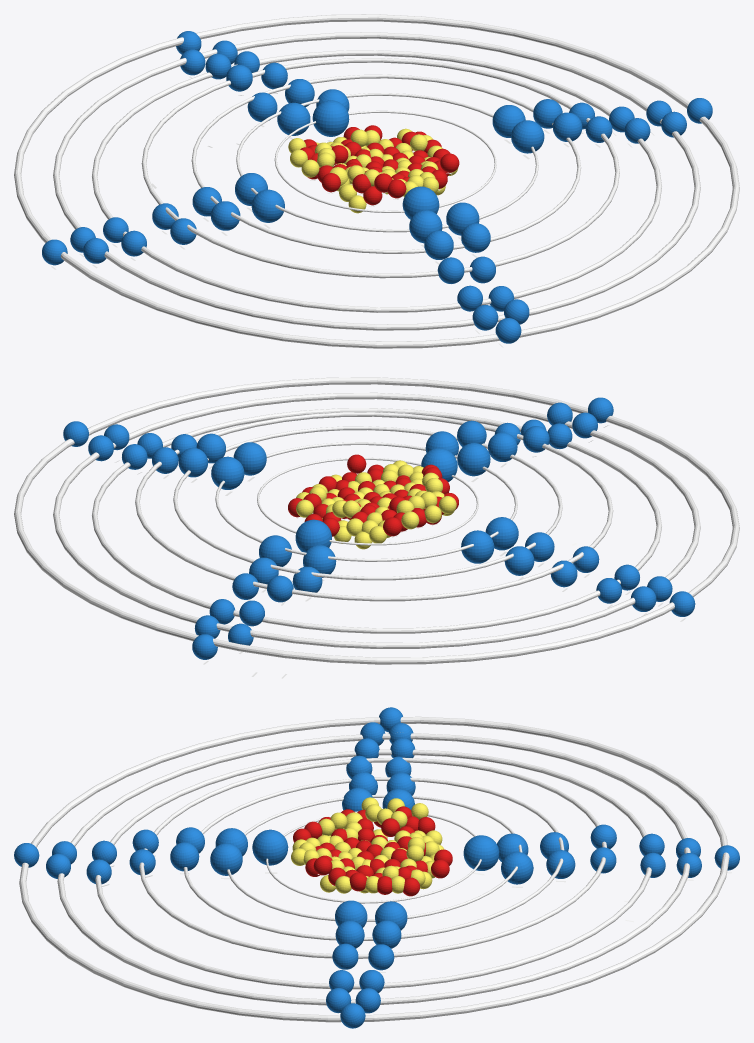
3 views of the same model, one above another, from view 1: azimuth 30°, elevation 25°; view 2: azimuth 150°, elevation 25°; view 3: azimuth 270°, elevation 25° (orthographic). The views are drawn at different scales.
Visible parts, largest first — view 1: Torus.007, Torus.006, Torus.005, Torus.004, Torus.003, Torus.002, Torus.001, g, g.005, g.003, g.001, g.008 (+17 smaller); view 2: Torus.007, Torus.006, Torus.005, Torus.004, Torus.003, Torus.002, Torus.001, g, g.006, g.004, g.002, g.003 (+30 smaller); view 3: Torus.007, Torus.006, Torus.005, Torus.004, Torus.003, Torus.002, g.001, g, Torus.001, g.007, g.009, g.015 (+10 smaller).
Part boxes in pixels (x1,y1,x2,y2): Torus.007: (14, 14, 739, 348); Torus.006: (53, 32, 700, 330); Torus.005: (92, 50, 661, 312); Torus.004: (141, 58, 619, 278); Torus.003: (191, 74, 581, 253); Torus.002: (236, 93, 538, 232); Torus.001: (274, 110, 496, 212); g: (312, 100, 349, 136); g.005: (511, 120, 544, 153); g.003: (251, 189, 284, 222); g.001: (402, 186, 439, 219); g.008: (277, 102, 310, 135); Torus.007: (14, 377, 739, 664); Torus.006: (53, 392, 700, 648); Torus.005: (92, 408, 661, 633); Torus.004: (135, 412, 613, 601); Torus.003: (173, 426, 562, 580); Torus.002: (215, 442, 517, 561); Torus.001: (257, 457, 478, 545); g: (295, 519, 331, 552); g.006: (457, 443, 490, 476); g.004: (211, 456, 244, 489); g.002: (461, 530, 494, 563); g.003: (485, 517, 518, 550); Torus.007: (19, 716, 729, 1022); Torus.006: (57, 733, 690, 1005); Torus.005: (95, 749, 651, 989); Torus.004: (139, 757, 606, 958); Torus.003: (183, 777, 564, 940); Torus.002: (227, 795, 522, 921); g.001: (252, 829, 288, 865); g: (463, 835, 499, 870); Torus.001: (266, 811, 481, 903); g.007: (210, 843, 242, 875); g.009: (501, 852, 533, 884); g.015: (170, 842, 199, 871).
Bounding box in the file's own units: 20.24 × 2.92 × 20.05.
